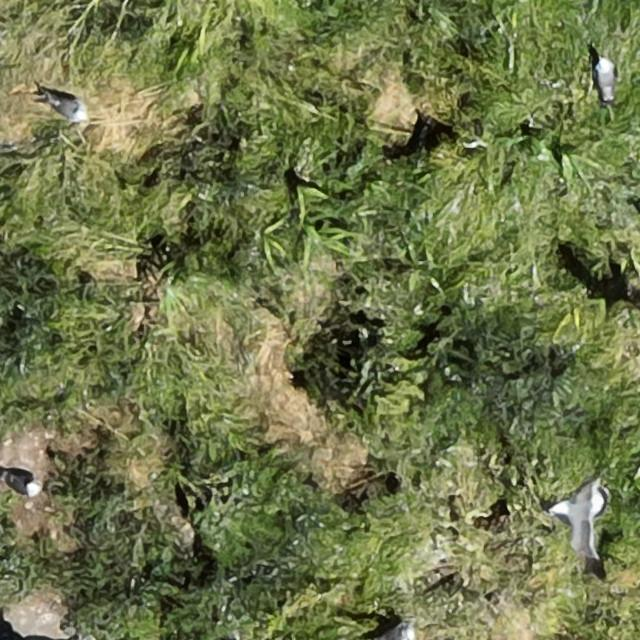F: (555, 488, 603, 558)
umineko: (48, 96, 86, 120), (5, 473, 39, 495), (595, 61, 614, 100), (373, 625, 406, 639)
